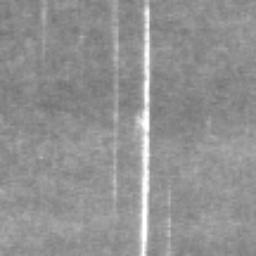Bright scratch: (136, 0, 150, 256), (114, 0, 118, 195)
